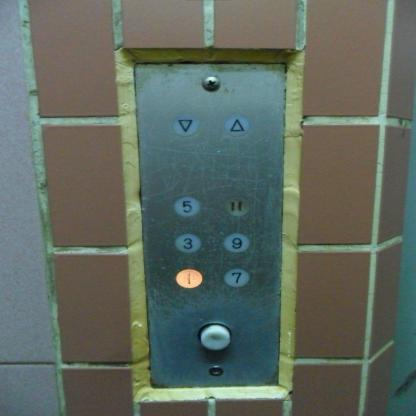1: (175, 268, 201, 288)
11: (222, 196, 250, 216)
3: (174, 233, 201, 253)
5: (173, 196, 200, 217)
7: (222, 268, 249, 288)
9: (222, 231, 249, 253)
down: (170, 113, 198, 136)
empty: (196, 322, 232, 352)
up: (223, 113, 250, 136)
